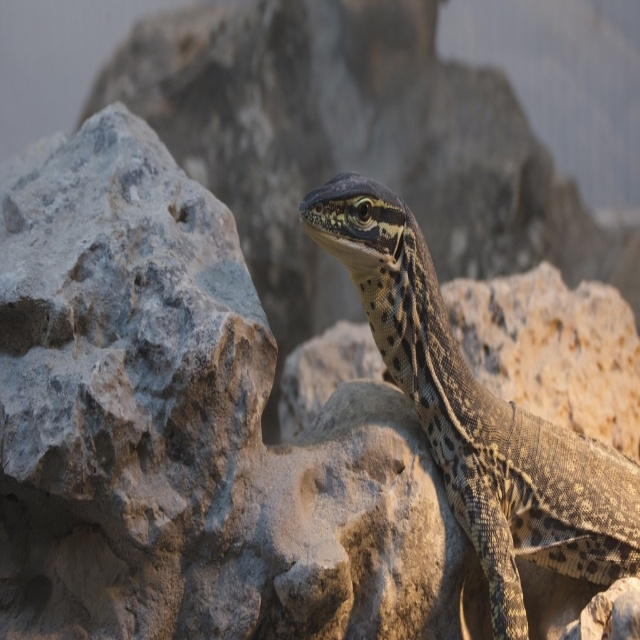Lizard: (304, 162, 634, 634)
